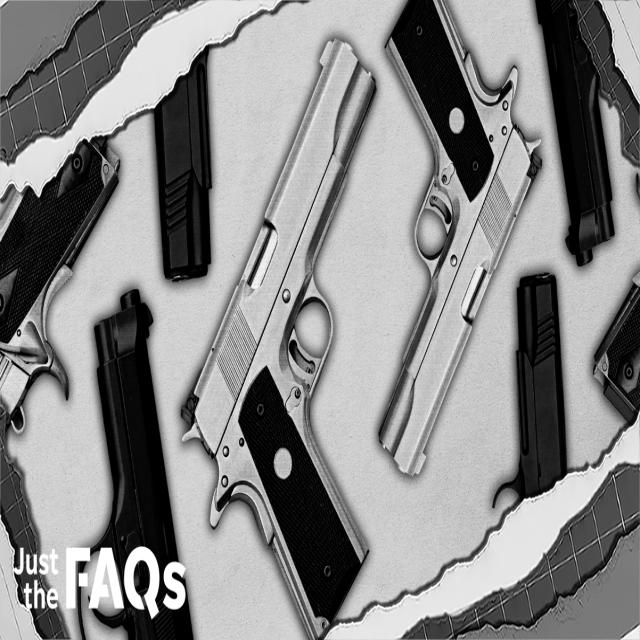Hand-Gun: (371, 3, 527, 484), (208, 26, 328, 634)
